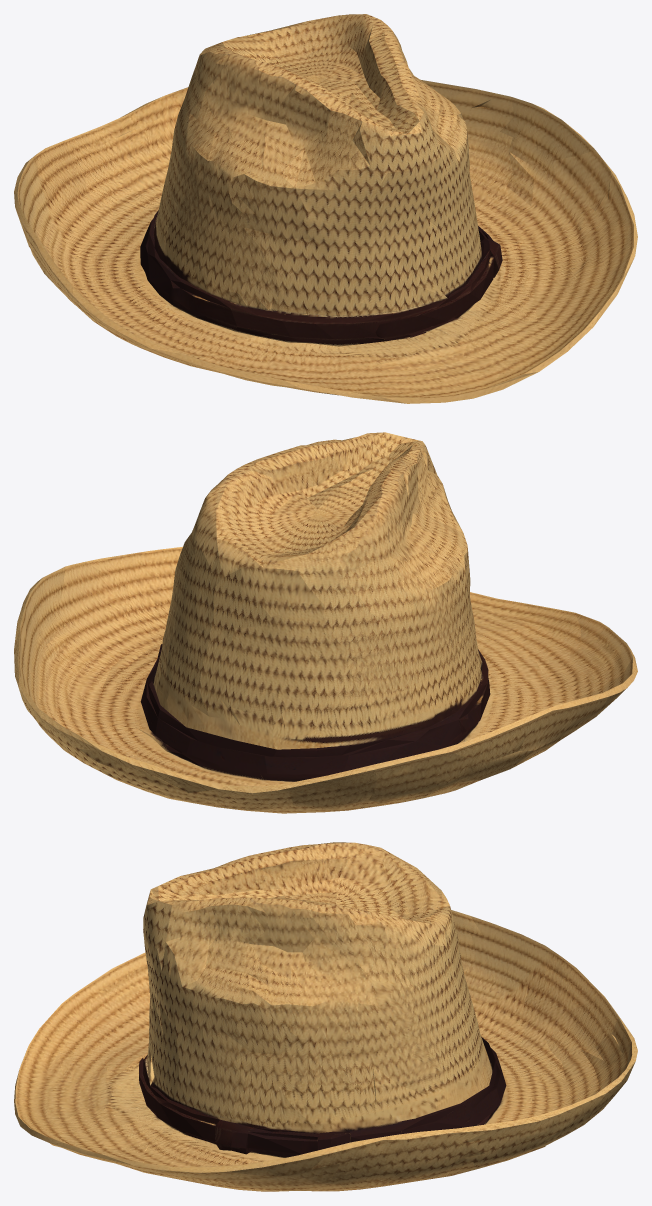
Rendered from hunter-hat-cowboy.glb.
The picture shows the model from 3 angles, top to bottom: view 1: azimuth 30°, elevation 25°; view 2: azimuth 150°, elevation 25°; view 3: azimuth 270°, elevation 25°; orthographic projection. The views are drawn at different scales.
Size of the model in its own units: 1.83 by 0.7717 by 1.9.
1 material, 1 textured.
